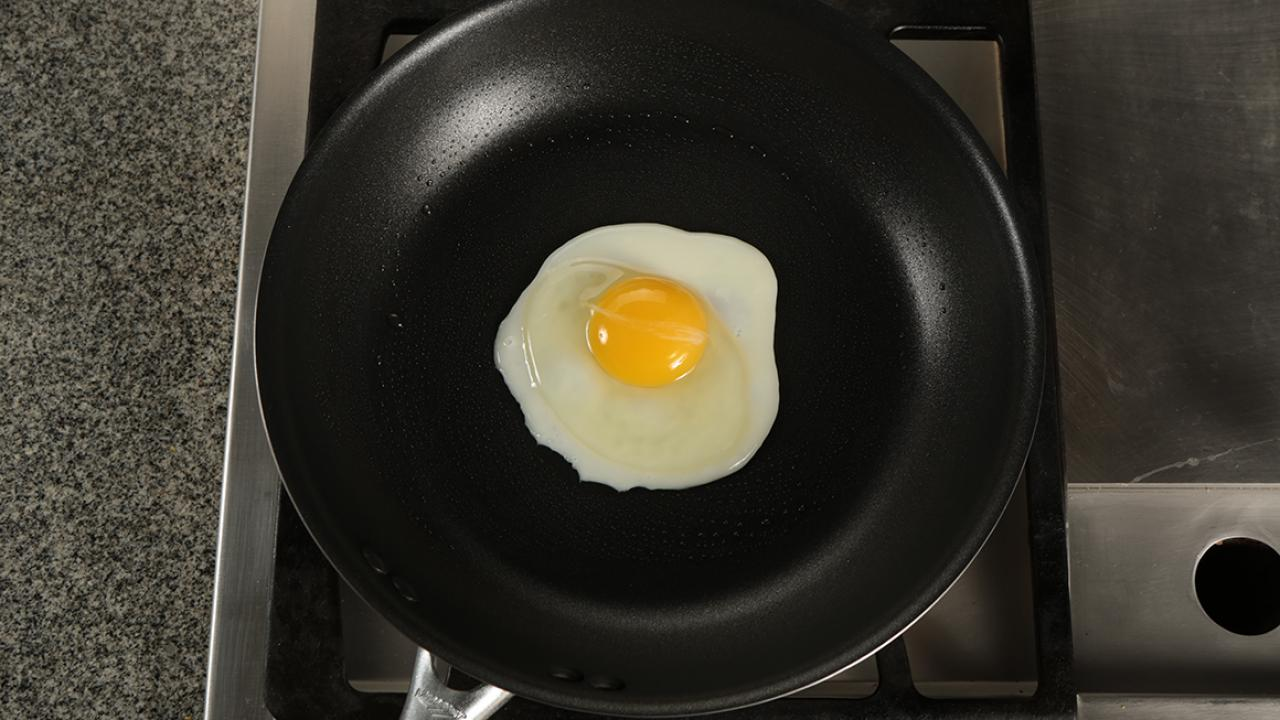fried egg: (504, 223, 781, 489)
